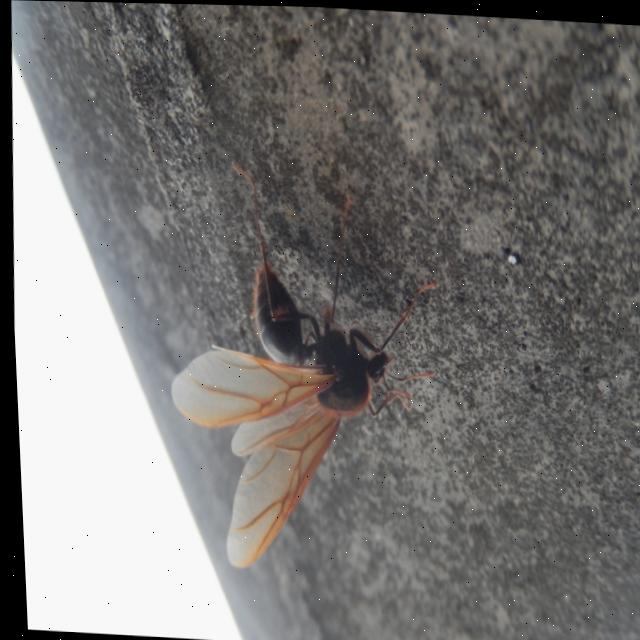Alive-Male-Alate: (152, 152, 449, 580)
